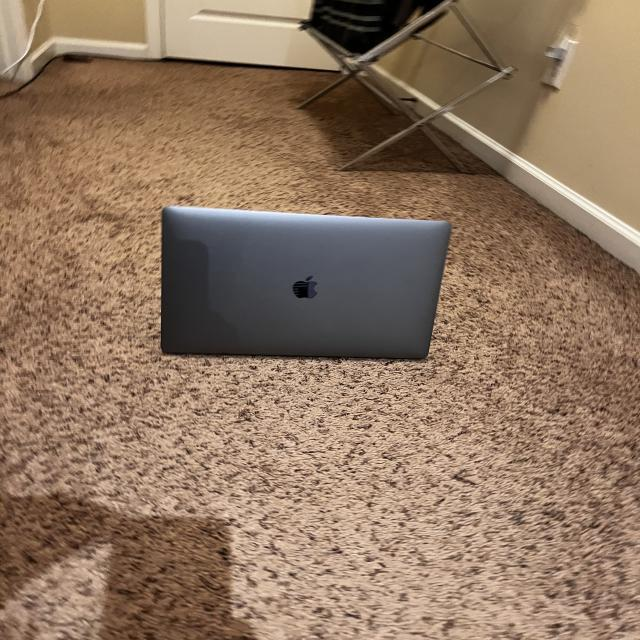laptop: (159, 203, 451, 360)
